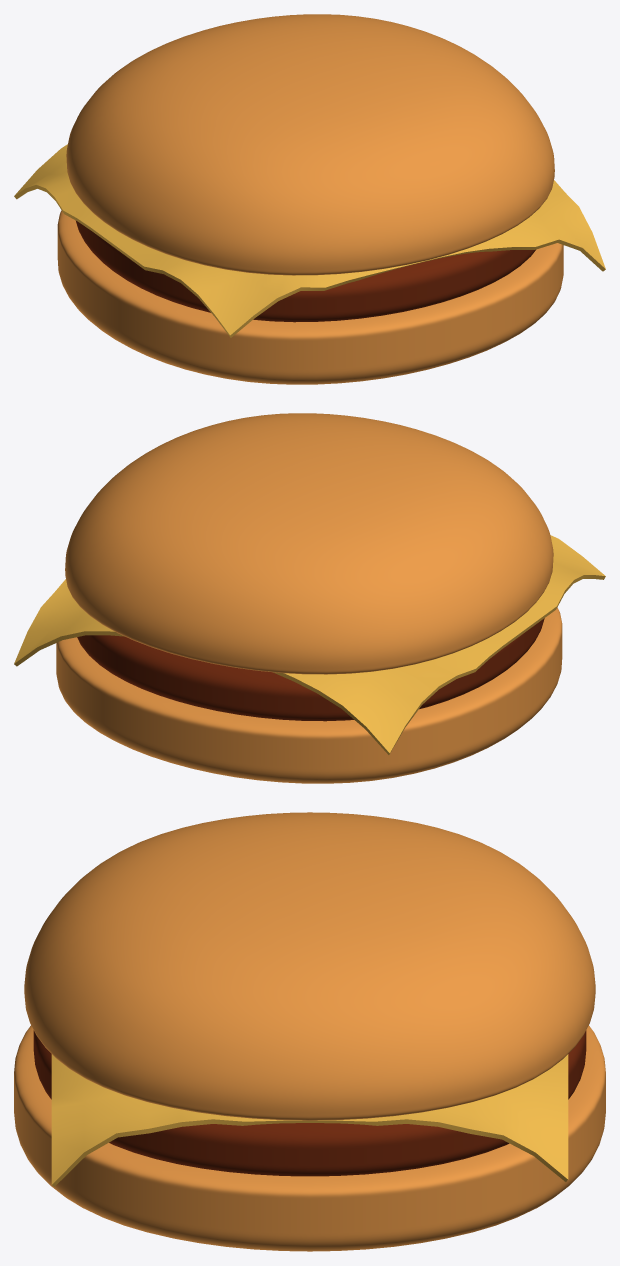
Rendered from hamburger.glb.
3 renders of one model, top to bottom at view 1: azimuth 30°, elevation 25°; view 2: azimuth 150°, elevation 25°; view 3: azimuth 270°, elevation 25°, orthographic. The views are drawn at different scales.
Parts seen in each view (by area): view 1: Cube.002, Cube, Plane, Cube.001; view 2: Cube.002, Cube, Plane, Cube.001; view 3: Cube.002, Cube, Plane, Cube.001.
Boxes of the visible parts, left/top/right/bottom form: Cube.002: left=66, top=14, right=554, bottom=275; Cube: left=57, top=210, right=563, bottom=384; Plane: left=14, top=144, right=605, bottom=337; Cube.001: left=76, top=221, right=535, bottom=322; Cube.002: left=65, top=413, right=553, bottom=674; Cube: left=56, top=607, right=562, bottom=783; Plane: left=14, top=535, right=605, bottom=754; Cube.001: left=77, top=618, right=544, bottom=721; Cube.002: left=24, top=812, right=595, bottom=1120; Cube: left=14, top=1025, right=605, bottom=1251; Plane: left=51, top=1054, right=568, bottom=1186; Cube.001: left=33, top=1030, right=586, bottom=1176.
Bounding box in the file's own units: 9.04 × 4.78 × 9.04.
